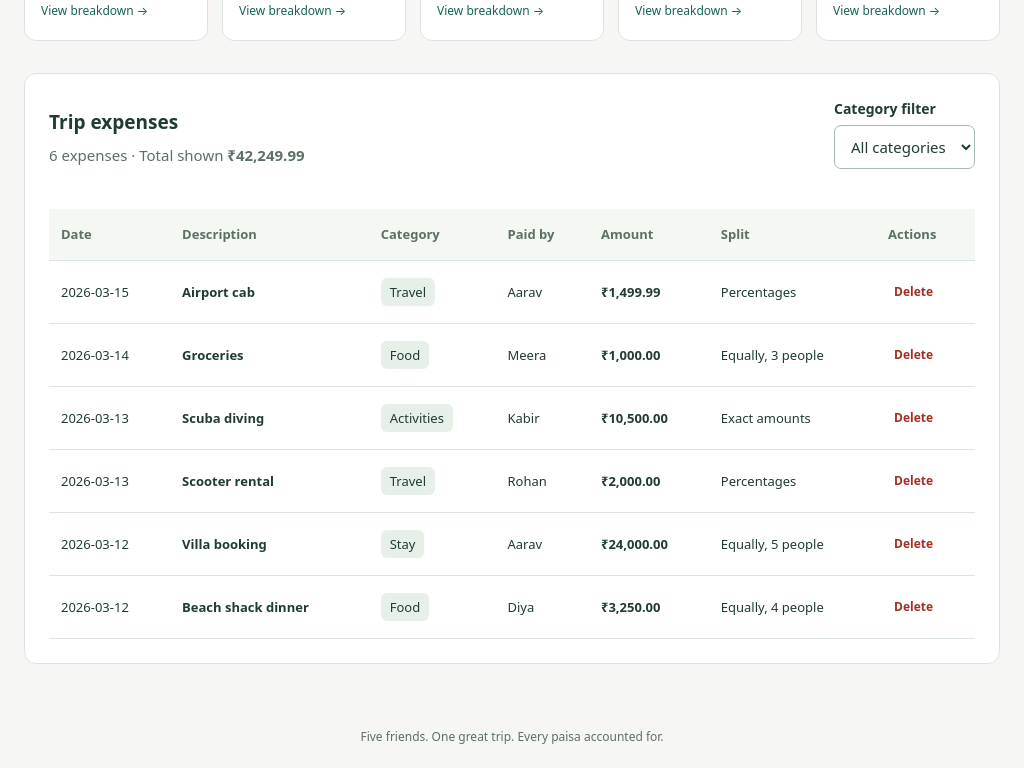
Test case: confirms deletion and immediately updates balances
(page scrolled)
Click the button with aria-label "Delete Villa booking": (914, 544) x1=888 y1=529 x2=939 y2=559
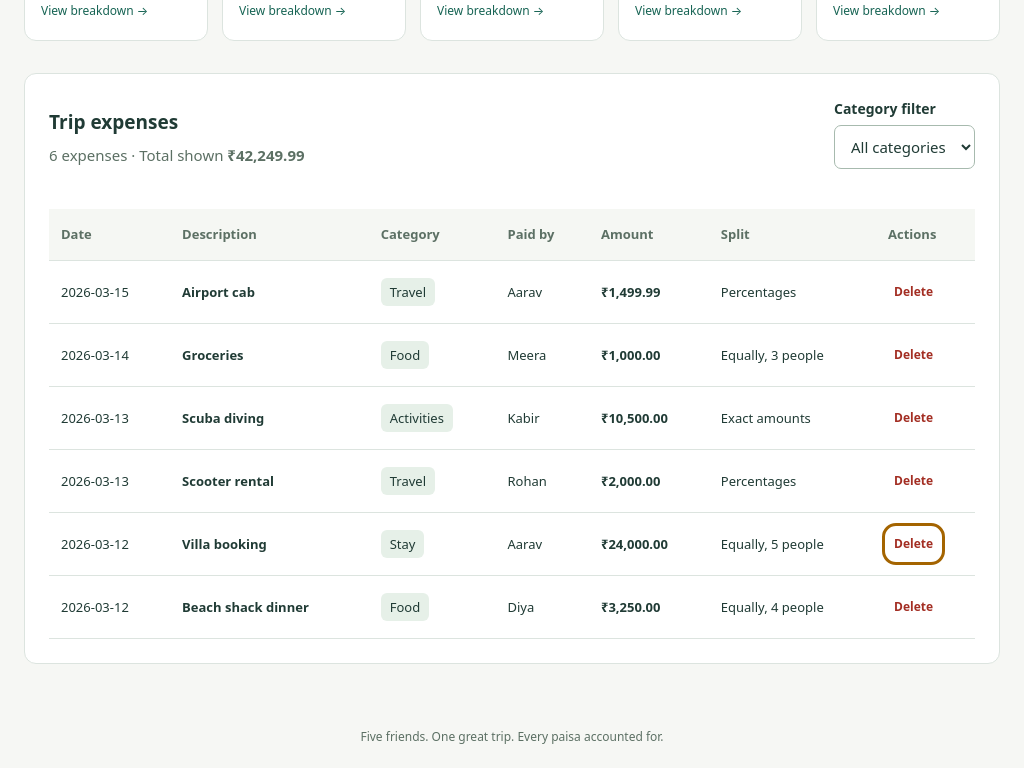
Check: the button "Villa booking" is shown, box x1=182 y1=535 x2=267 y2=554
Click the button with aria-label "Delete Villa booking": (914, 544) x1=888 y1=529 x2=939 y2=559
(page scrolled)
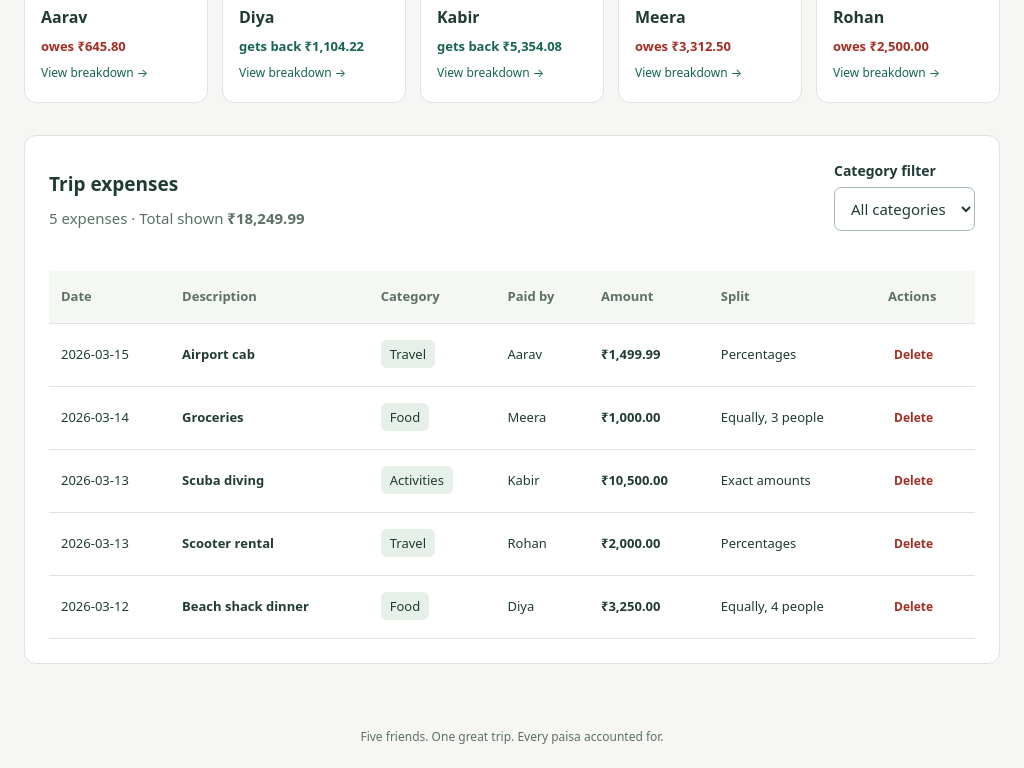
Check: the button "Villa booking" is gone
Check: the text "owes ₹645.80" is shown, box x1=41 y1=37 x2=126 y2=55
